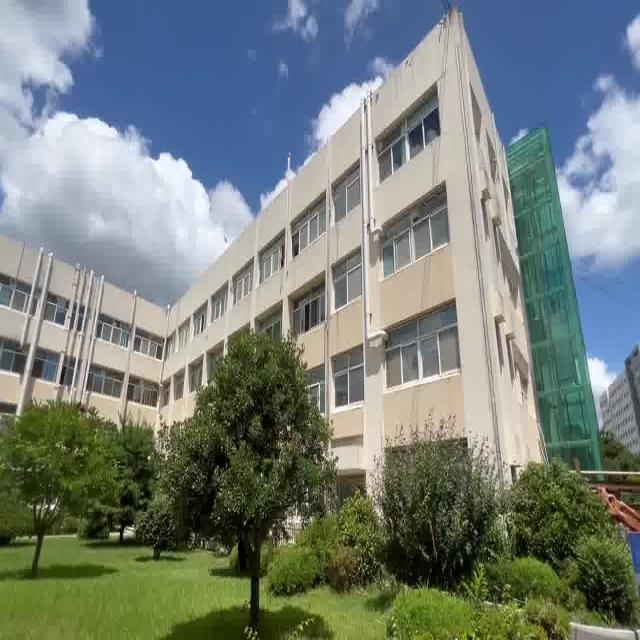building: (324, 70, 582, 446)
